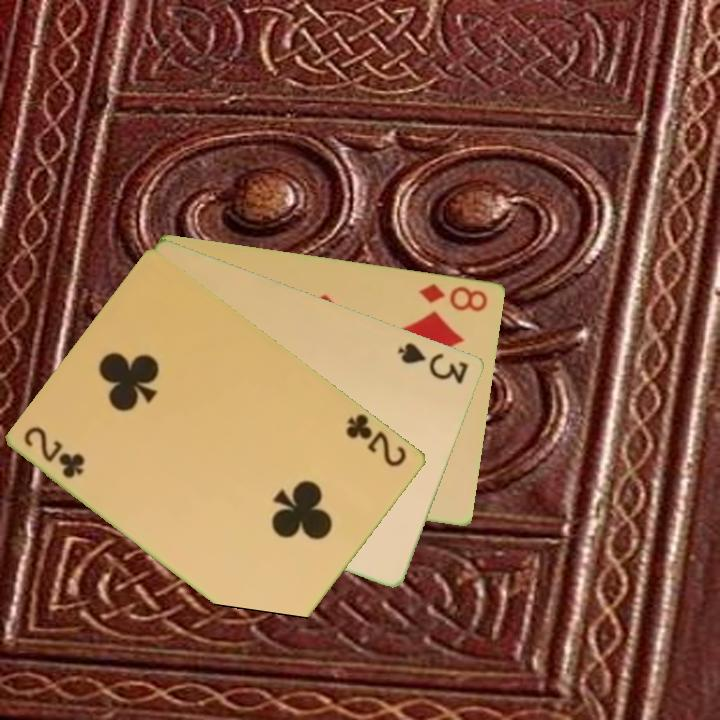2c: (343, 410, 411, 470), (20, 422, 88, 482)
3s: (394, 338, 472, 387)
8d: (416, 279, 491, 314)
